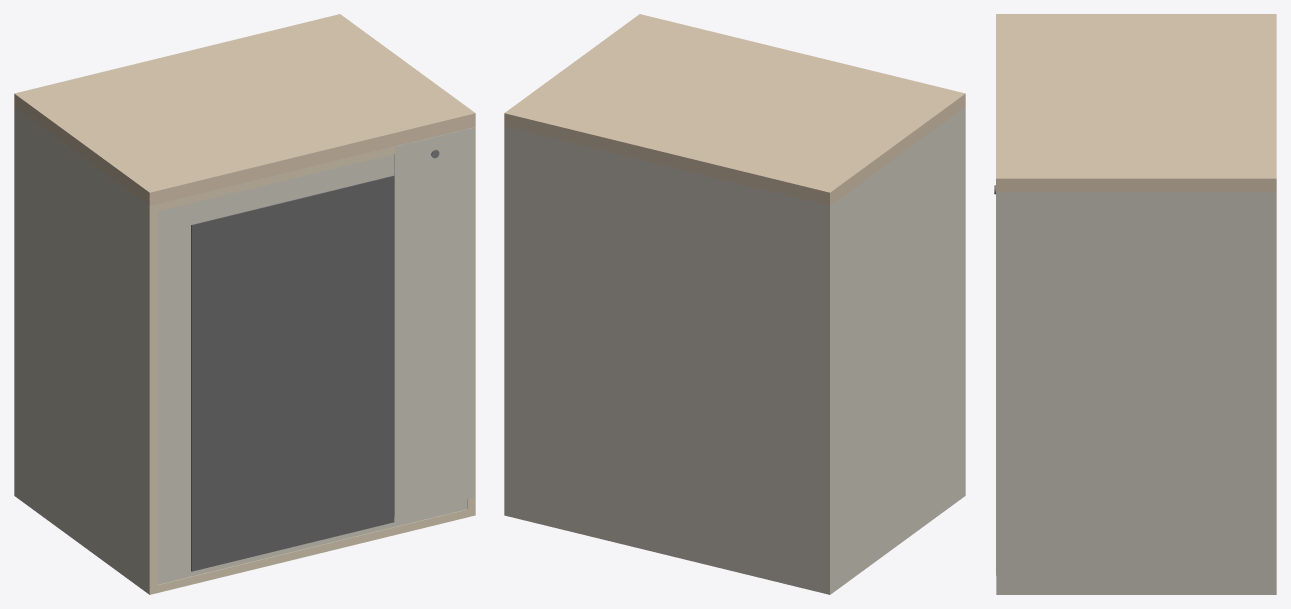
The model's file is v2-real-hob-0.glb.
3 renders of one model, left to right at view 1: azimuth 30°, elevation 25°; view 2: azimuth 150°, elevation 25°; view 3: azimuth 270°, elevation 25°, orthographic. The views are drawn at different scales.
Bounding box in the file's own units: 780 × 920 × 565.
